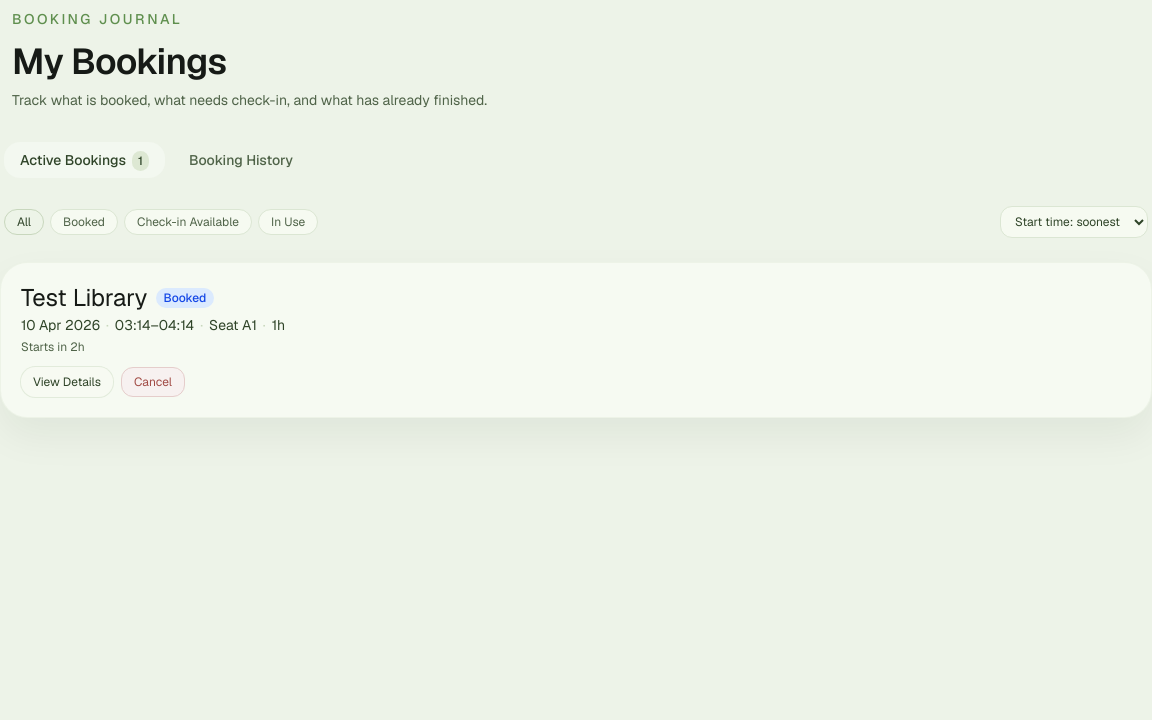
Test: BookingsPage › View Details opens the booking detail modal
Step 1. Click the button "View Details" → point(67, 382), box [21,367,113,397]
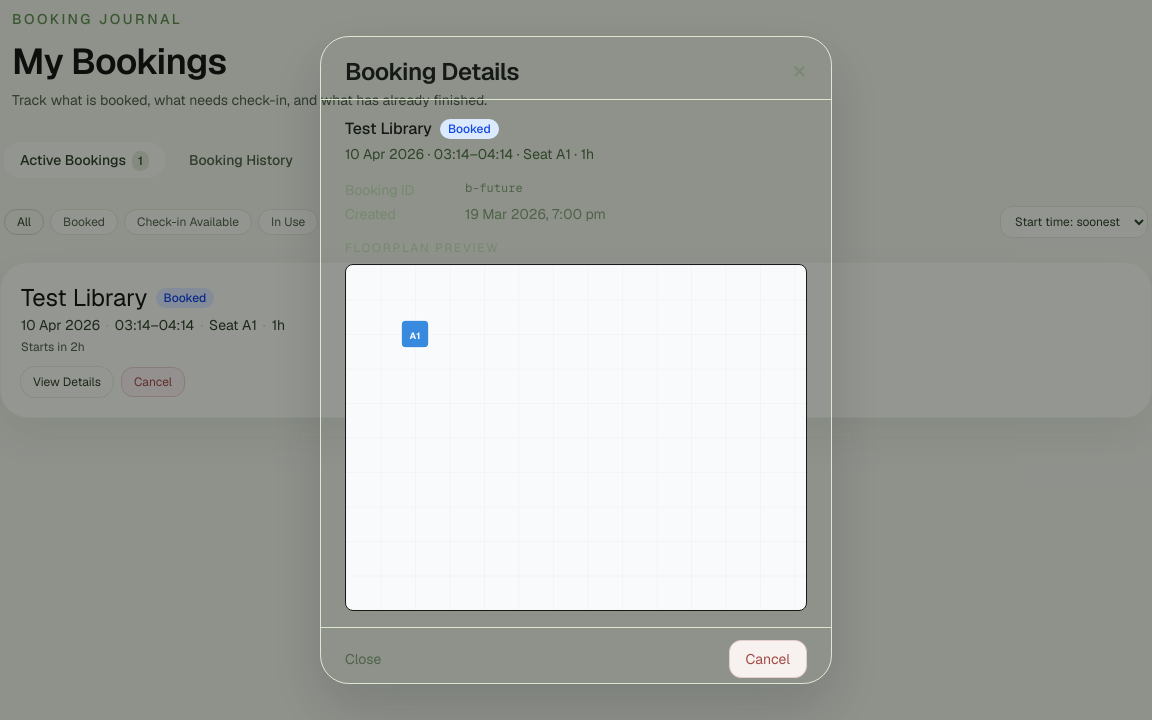
Now the heading "Booking Details" is shown, box [345,57,519,87]
